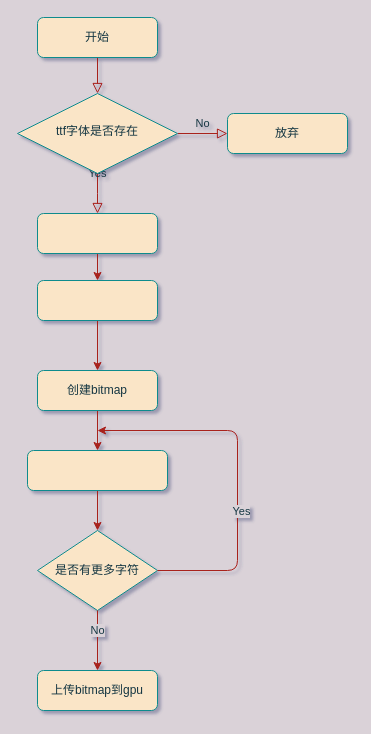
The diagram is 371 pixels wide and 734 high, and some of its shapes have lost their labels. The centre of each missing label's shape, as x and y in pixels:
"stb_truetype解析ttf" goes at point (97, 300).
"渲染指定文字到bitmap" goes at point (97, 470).
"读取ttf文件" goes at point (97, 233).
